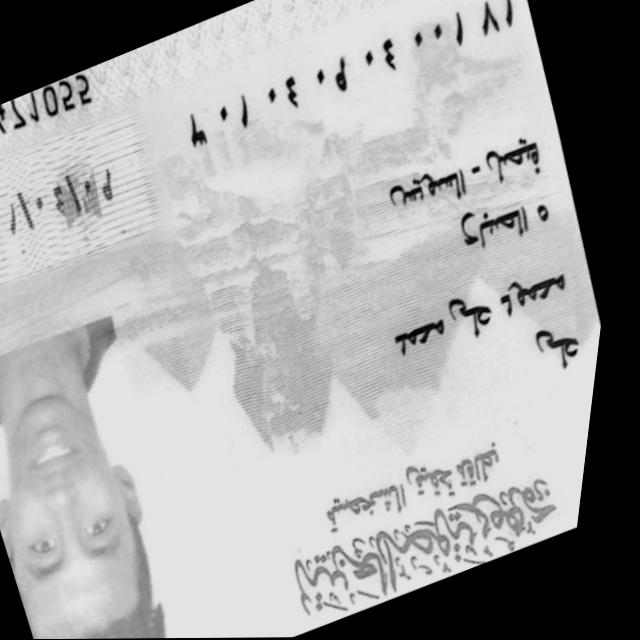front: (0, 0, 601, 639)
